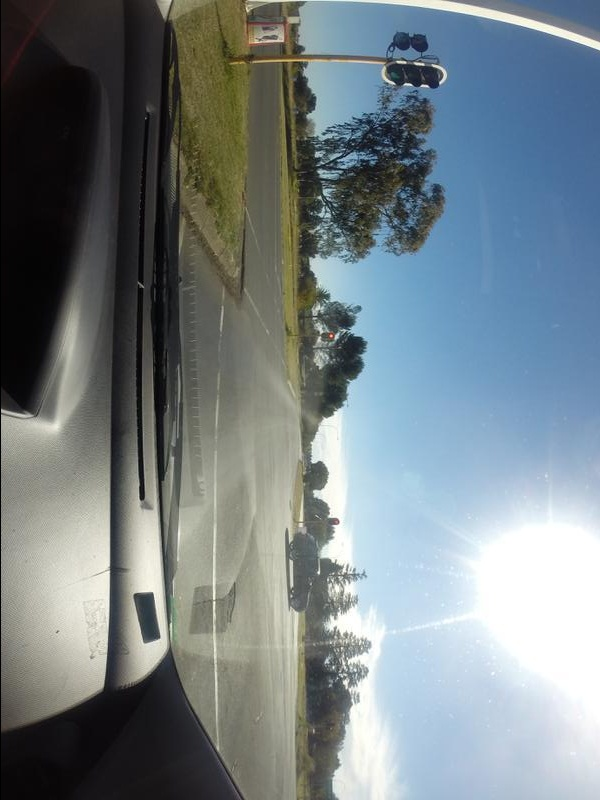pothole: (209, 579, 247, 648)
